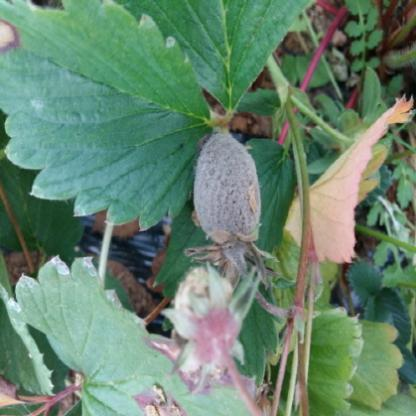Strawberry_Blossom_Blight: (183, 133, 280, 293)
